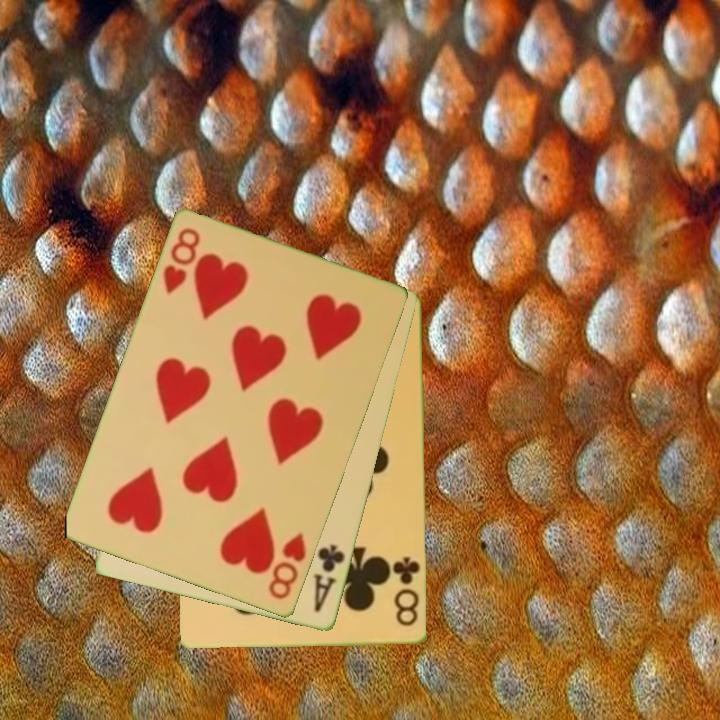8c: (389, 553, 423, 630)
8h: (265, 529, 310, 603), (159, 225, 204, 297)
Ac: (310, 541, 348, 616)
